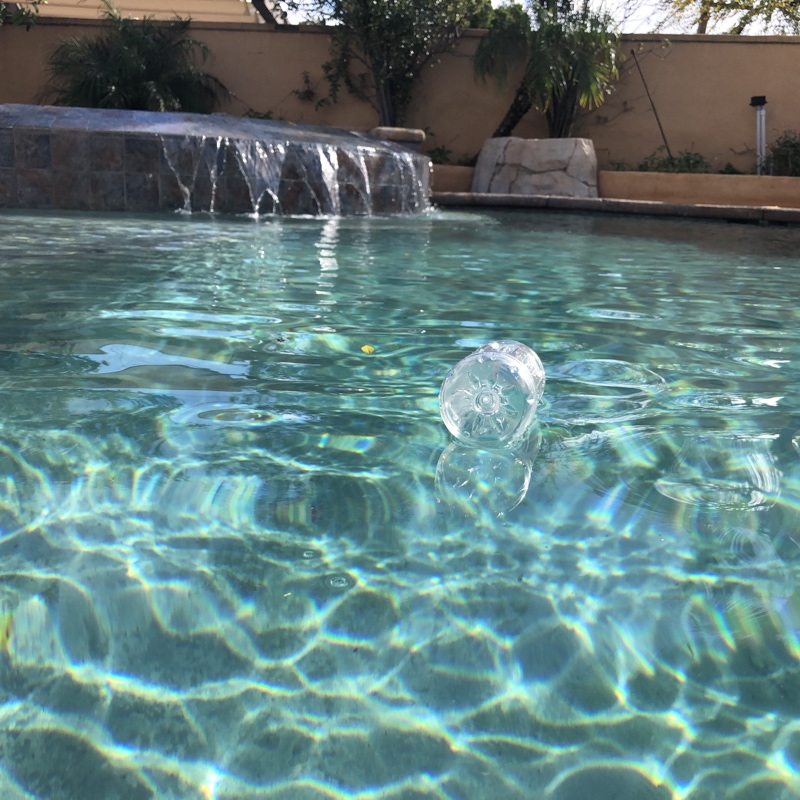Plastic Bottle: (435, 330, 550, 460)
